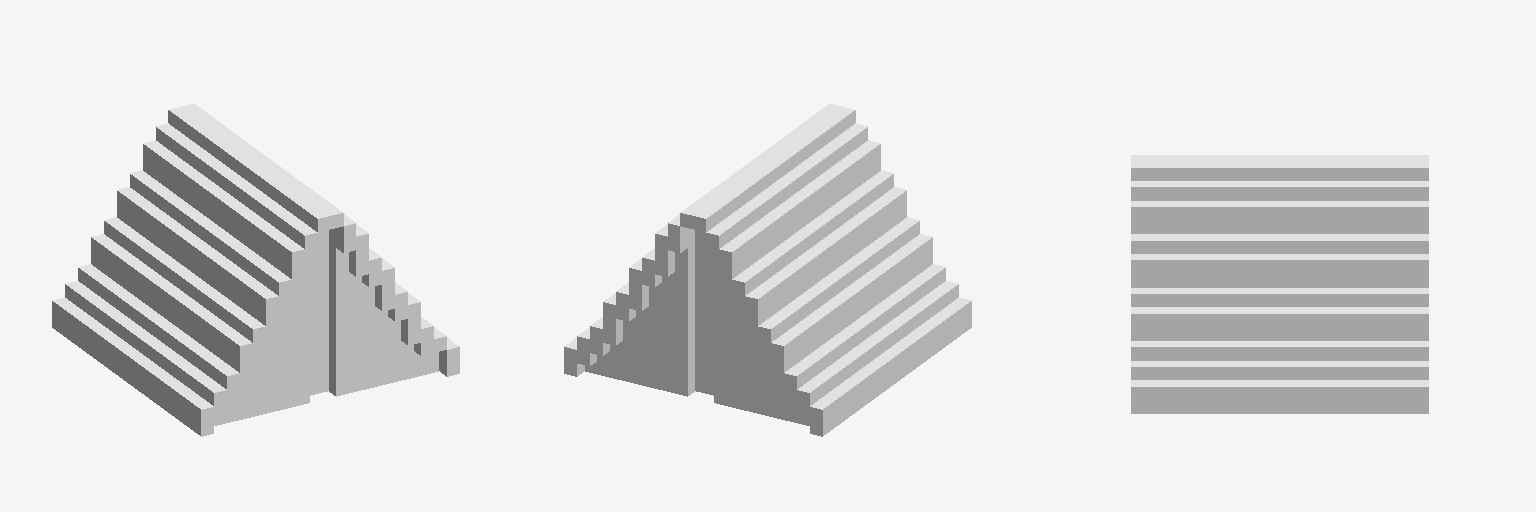
File: Prop_tent.obj
3 renders of one model, left to right at view 1: azimuth 30°, elevation 25°; view 2: azimuth 150°, elevation 25°; view 3: azimuth 270°, elevation 25°, orthographic.
Visible parts, largest first — view 1: object 1; view 2: object 1; view 3: object 1.
Boxes of the visible parts, x1=… form: object 1: x1=52, y1=104, x2=459, y2=436; object 1: x1=564, y1=104, x2=971, y2=436; object 1: x1=1131, y1=155, x2=1428, y2=413.
Size of the model in its own units: 2 by 1.4 by 2.